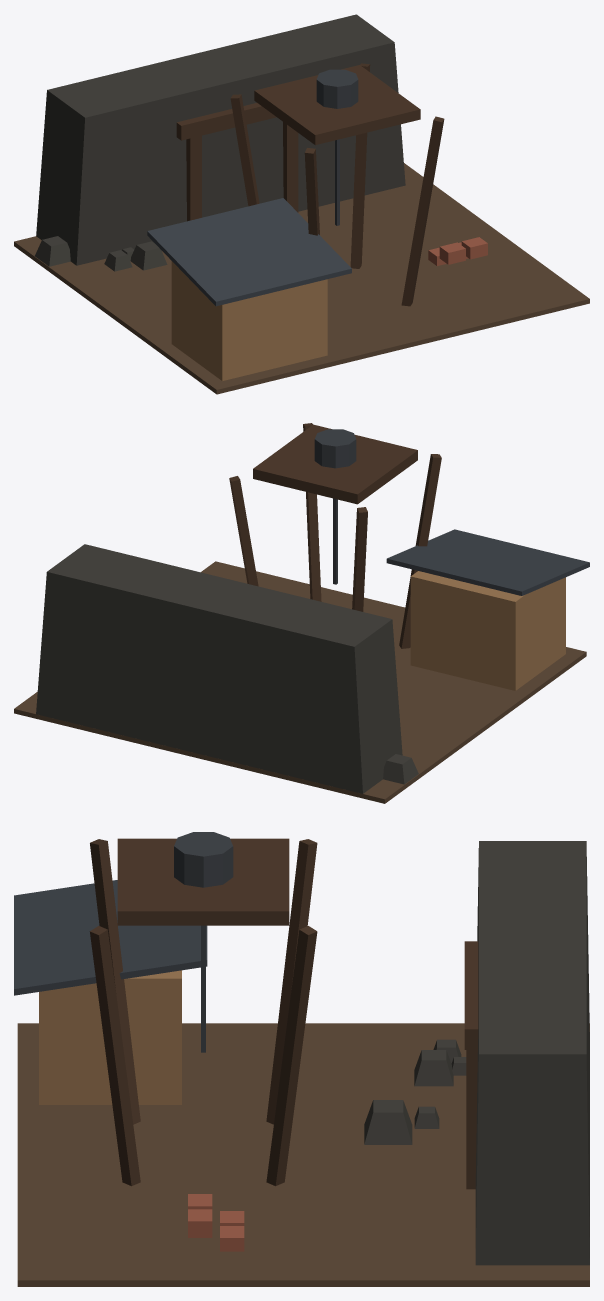
Rendered from mine.glb.
The picture shows the model from 3 angles, top to bottom: view 1: azimuth 30°, elevation 25°; view 2: azimuth 150°, elevation 25°; view 3: azimuth 270°, elevation 25°; orthographic projection. The views are drawn at different scales.
Parts seen in each view (by area): view 1: mine_lod0; view 2: mine_lod0; view 3: mine_lod0.
Boxes of the visible parts, x1=… form: mine_lod0: x1=14, y1=14, x2=589, y2=394; mine_lod0: x1=14, y1=423, x2=589, y2=803; mine_lod0: x1=14, y1=832, x2=589, y2=1286.
Size of what is drawn, in the model's own units: 8.55 by 4.85 by 8.05.
